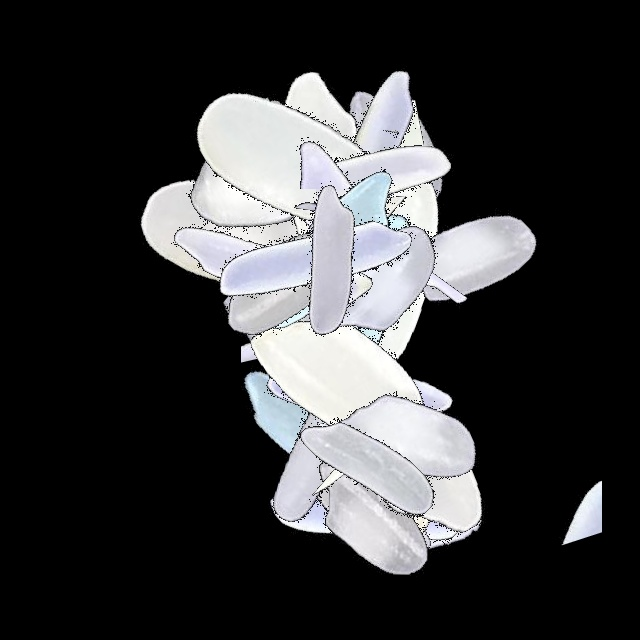Broken: (254, 192, 426, 442), (177, 254, 427, 424), (415, 162, 584, 412), (234, 100, 484, 263), (316, 63, 471, 313), (241, 156, 370, 406), (310, 140, 429, 390), (275, 360, 393, 610), (313, 26, 424, 276), (270, 390, 520, 500), (341, 120, 435, 370), (509, 373, 602, 623), (257, 130, 507, 220), (231, 71, 481, 159), (319, 154, 407, 404), (255, 244, 505, 330), (212, 103, 462, 189), (308, 390, 391, 640), (208, 134, 458, 213)
Full: (151, 79, 401, 329), (284, 378, 534, 628), (110, 118, 360, 368), (269, 28, 519, 278), (209, 114, 459, 364), (199, 309, 449, 559), (251, 385, 501, 635), (244, 376, 494, 626), (277, 344, 527, 594), (224, 309, 474, 559), (187, 332, 437, 582), (119, 65, 369, 315), (260, 142, 510, 392), (232, 185, 482, 435), (198, 49, 448, 299), (247, 390, 497, 640), (284, 322, 534, 572), (241, 33, 491, 283), (160, 28, 410, 278), (163, 162, 413, 412), (233, 268, 483, 518), (218, 261, 468, 511), (236, 138, 486, 388), (280, 319, 530, 569), (243, 340, 493, 590), (199, 126, 449, 376), (253, 156, 503, 406), (147, 140, 397, 390), (157, 159, 407, 409), (191, 138, 441, 388), (205, 135, 455, 385)
